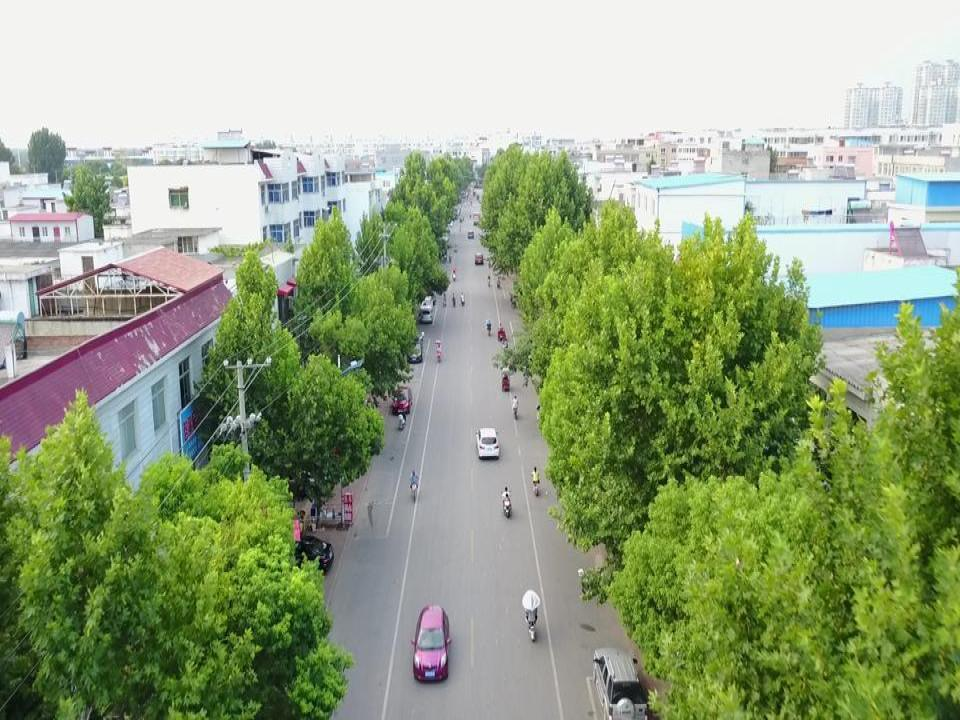car: (411, 604, 451, 683), (270, 532, 333, 576), (272, 467, 333, 501), (474, 427, 499, 460), (392, 385, 413, 412), (405, 336, 424, 363), (418, 296, 432, 312), (420, 309, 433, 324), (474, 252, 484, 264), (441, 233, 449, 243), (446, 219, 454, 226), (452, 208, 459, 215), (468, 230, 474, 238)
truck: (473, 211, 480, 225)
van: (592, 645, 648, 720), (461, 191, 466, 197)
